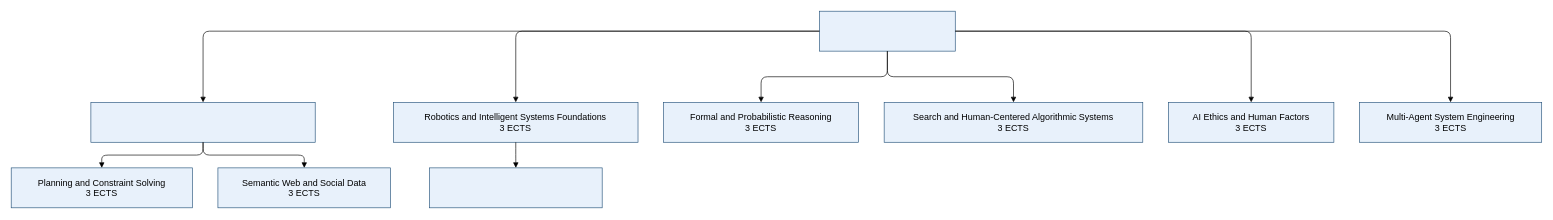
Some shapes in this 1553 by 220 pixel diagram are drawn without their labels. Each missing label, with the centre of its shape:
"Advanced Intelligent Systems 3 ECTS" goes at pixel 515 187.
"Artificial Intelligence 3 ECTS" goes at pixel 887 31.
"Knowledge Representation and Reasoning 3 ECTS" goes at pixel 202 122.
